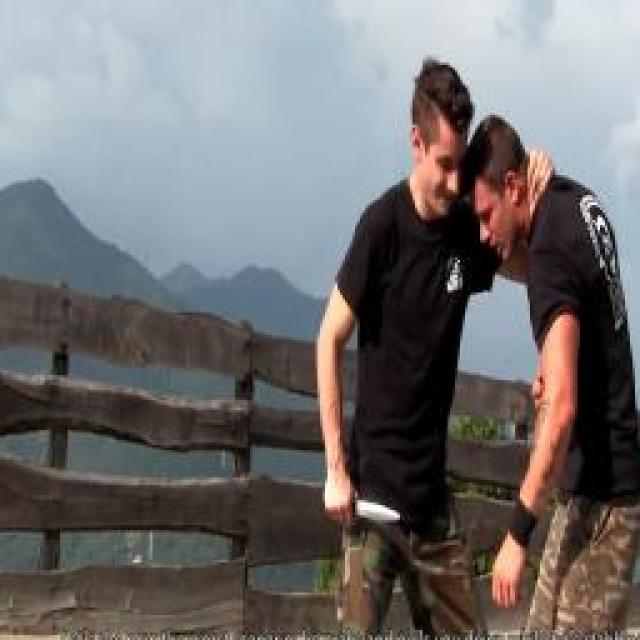knife: (320, 488, 408, 532)
